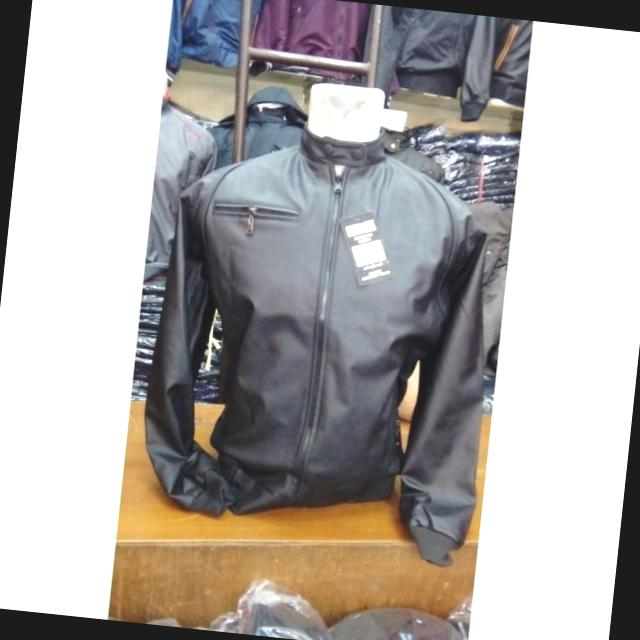jacket: (122, 111, 510, 573)
